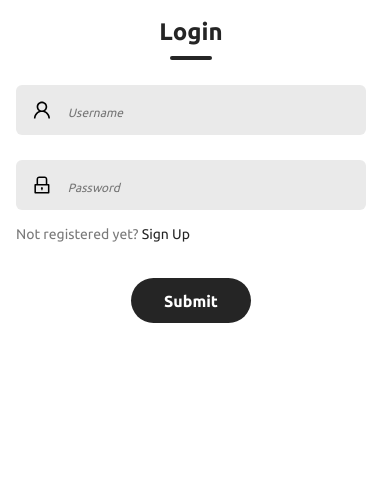
Test: Form › renders Sign up of Form component
The width and height of the screenshot is (383, 490).
Click the text with test id "toSignUpButton".
click(166, 234)  # box [142, 226, 190, 242]
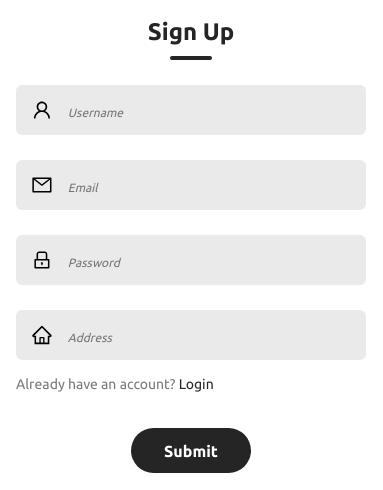
Now the text "Sign Up" is shown, box [148, 16, 234, 47]
Now the field with placeholder "Email" is shown, box [68, 160, 366, 210]
Now the field with placeholder "Address" is shown, box [68, 310, 366, 360]
